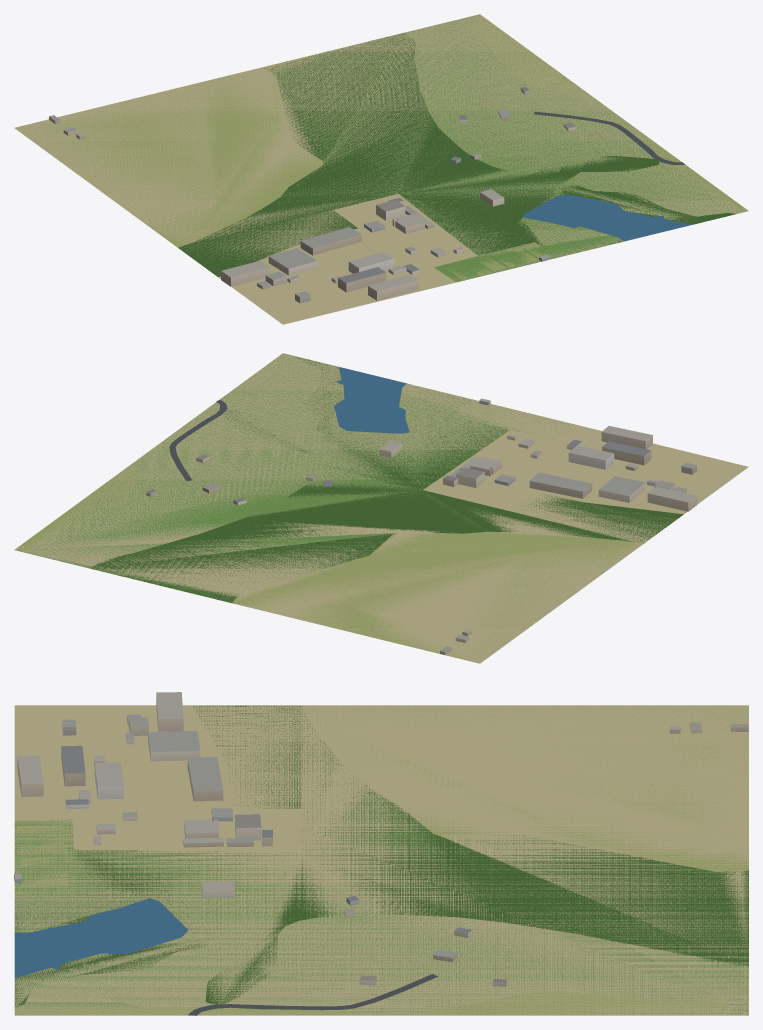
The picture shows the model from 3 angles, top to bottom: view 1: azimuth 30°, elevation 25°; view 2: azimuth 150°, elevation 25°; view 3: azimuth 270°, elevation 25°; orthographic projection. The views are drawn at different scales.
Visible parts, largest first — view 1: landuse, buildings_walls, buildings_roofs, water, roads; view 2: landuse, buildings_walls, buildings_roofs, water, roads; view 3: landuse, buildings_roofs, water, buildings_walls, roads.
Part boxes in pixels (x1=…): landuse: x1=14, y1=14, x2=748, y2=324; buildings_walls: x1=49, y1=88, x2=576, y2=303; buildings_roofs: x1=49, y1=87, x2=575, y2=297; water: x1=523, y1=141, x2=692, y2=241; roads: x1=534, y1=111, x2=684, y2=164; landuse: x1=14, y1=353, x2=748, y2=663; buildings_walls: x1=146, y1=400, x2=697, y2=654; buildings_roofs: x1=146, y1=398, x2=696, y2=651; water: x1=198, y1=367, x2=409, y2=433; roads: x1=169, y1=400, x2=226, y2=480; landuse: x1=14, y1=705, x2=748, y2=1015; buildings_roofs: x1=14, y1=692, x2=748, y2=982; water: x1=14, y1=898, x2=285, y2=1015; buildings_walls: x1=14, y1=695, x2=748, y2=986; roads: x1=188, y1=974, x2=438, y2=1015.
Bounding box in the file's own units: 501 × 9.6 × 500.
